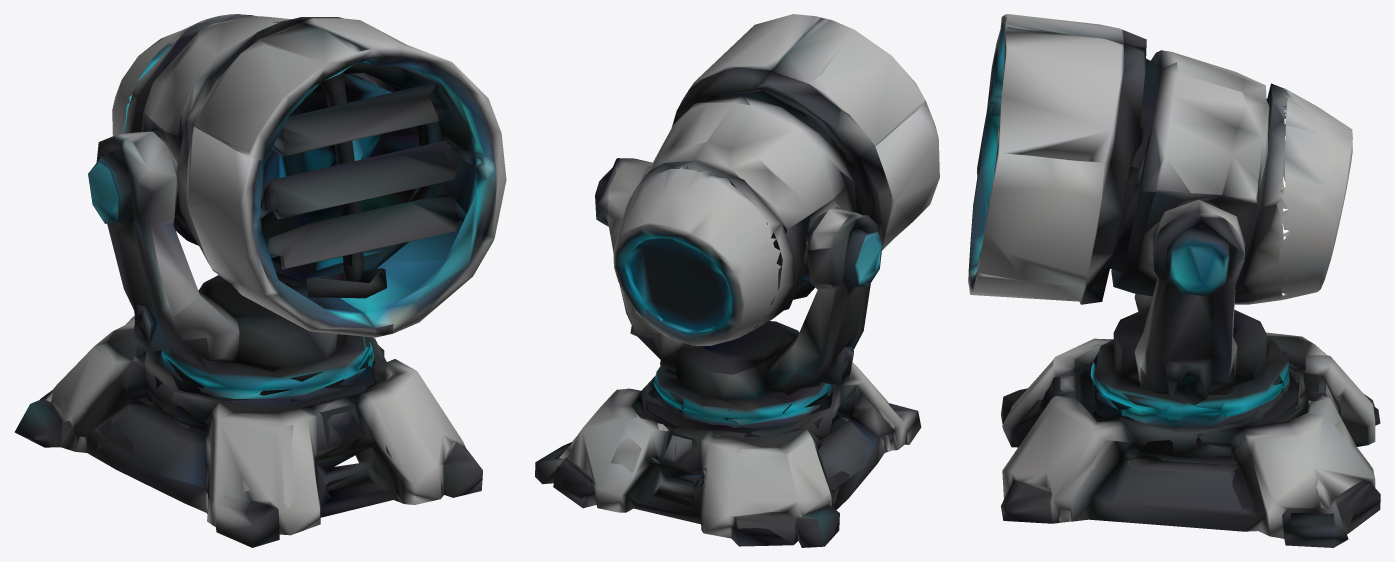
The model's file is model-35-shutter-fan.glb.
3 views of the same model, side by side, from view 1: azimuth 30°, elevation 25°; view 2: azimuth 150°, elevation 25°; view 3: azimuth 270°, elevation 25° (orthographic). The views are drawn at different scales.
Parts seen in each view (by area): view 1: Frame, Moving; view 2: Frame, Moving; view 3: Frame, Moving.
Boxes of the visible parts, x1,y1,x2,y2 form: Frame: (14,14,506,547); Moving: (112,14,242,136); Frame: (535,14,939,547); Moving: (613,166,781,345); Frame: (968,14,1380,547); Moving: (1279,87,1352,299).
Size of the model in its own units: 0.6548 by 0.8377 by 0.7107.
